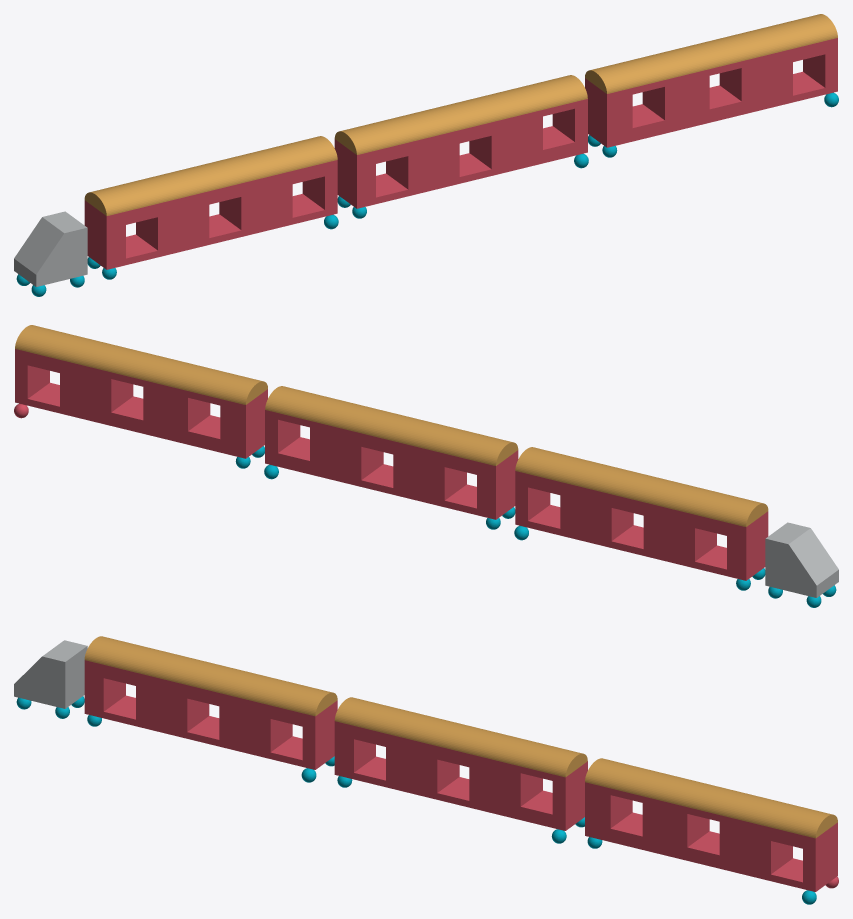
File: Train.glb
The picture shows the model from 3 angles, top to bottom: view 1: azimuth 30°, elevation 25°; view 2: azimuth 150°, elevation 25°; view 3: azimuth 330°, elevation 25°; orthographic projection.
Parts seen in each view (by area): view 1: Mesh_Mesh_head_geo.001_lambert2SG.001; view 2: Mesh_Mesh_head_geo.001_lambert2SG.001; view 3: Mesh_Mesh_head_geo.001_lambert2SG.001.
Part boxes in pixels (bbox=[...]): Mesh_Mesh_head_geo.001_lambert2SG.001: bbox=[14, 14, 838, 296]; Mesh_Mesh_head_geo.001_lambert2SG.001: bbox=[14, 325, 838, 607]; Mesh_Mesh_head_geo.001_lambert2SG.001: bbox=[14, 636, 838, 904].
Bounding box in the file's own units: 125 × 12 × 8.
